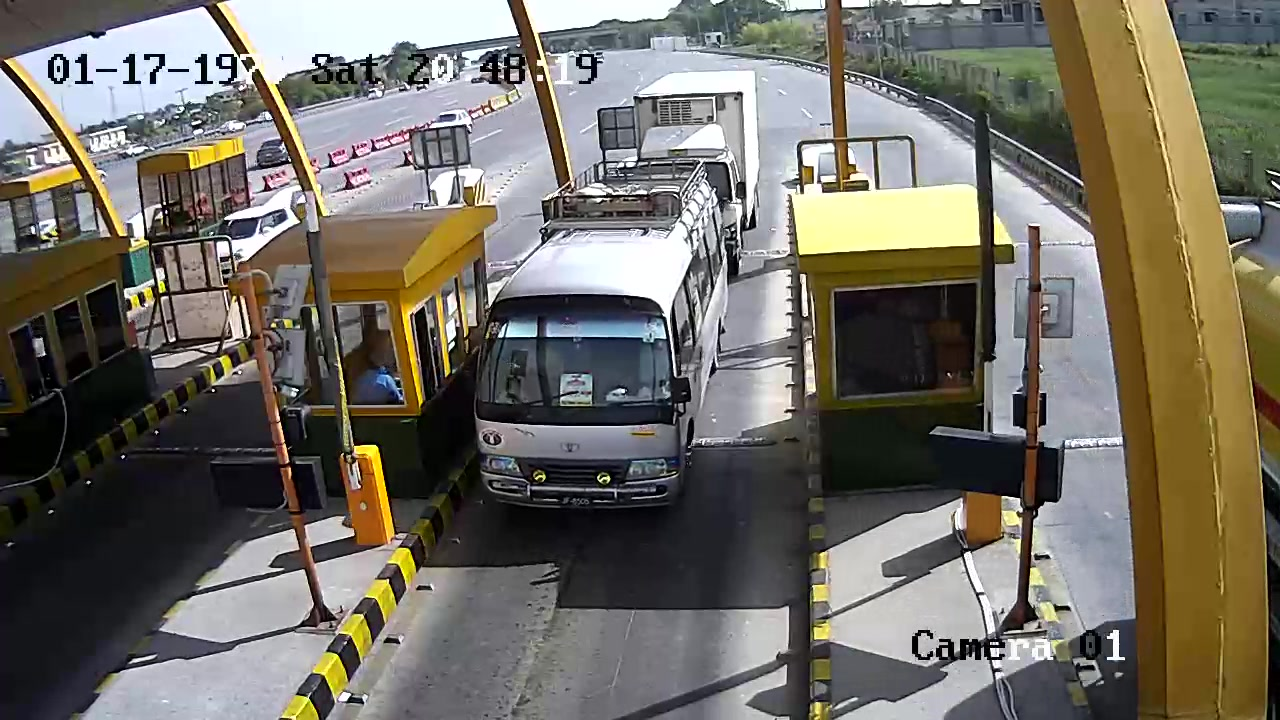F3: (477, 159, 717, 526)
